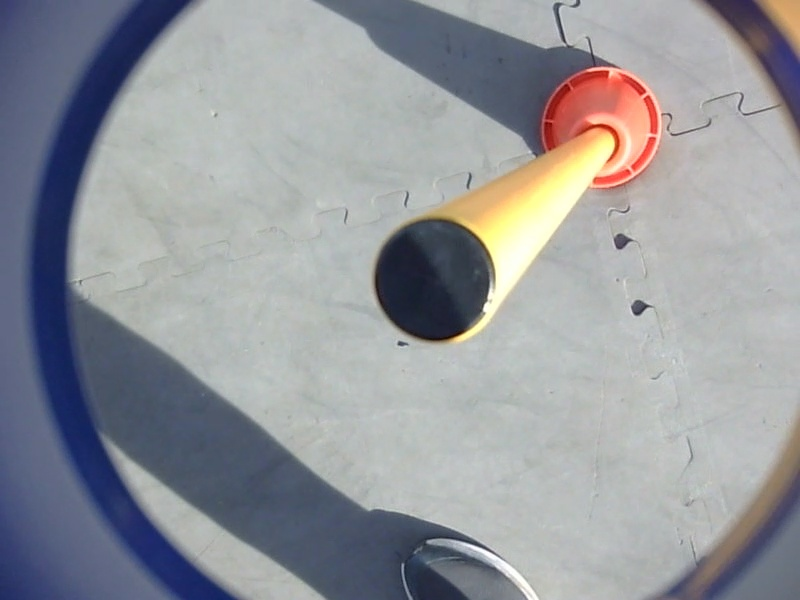tip: (362, 209, 507, 350)
